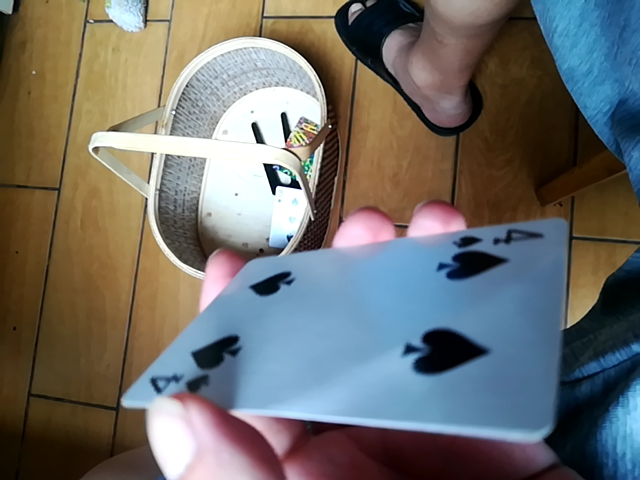ht 4: (141, 212, 578, 454)
